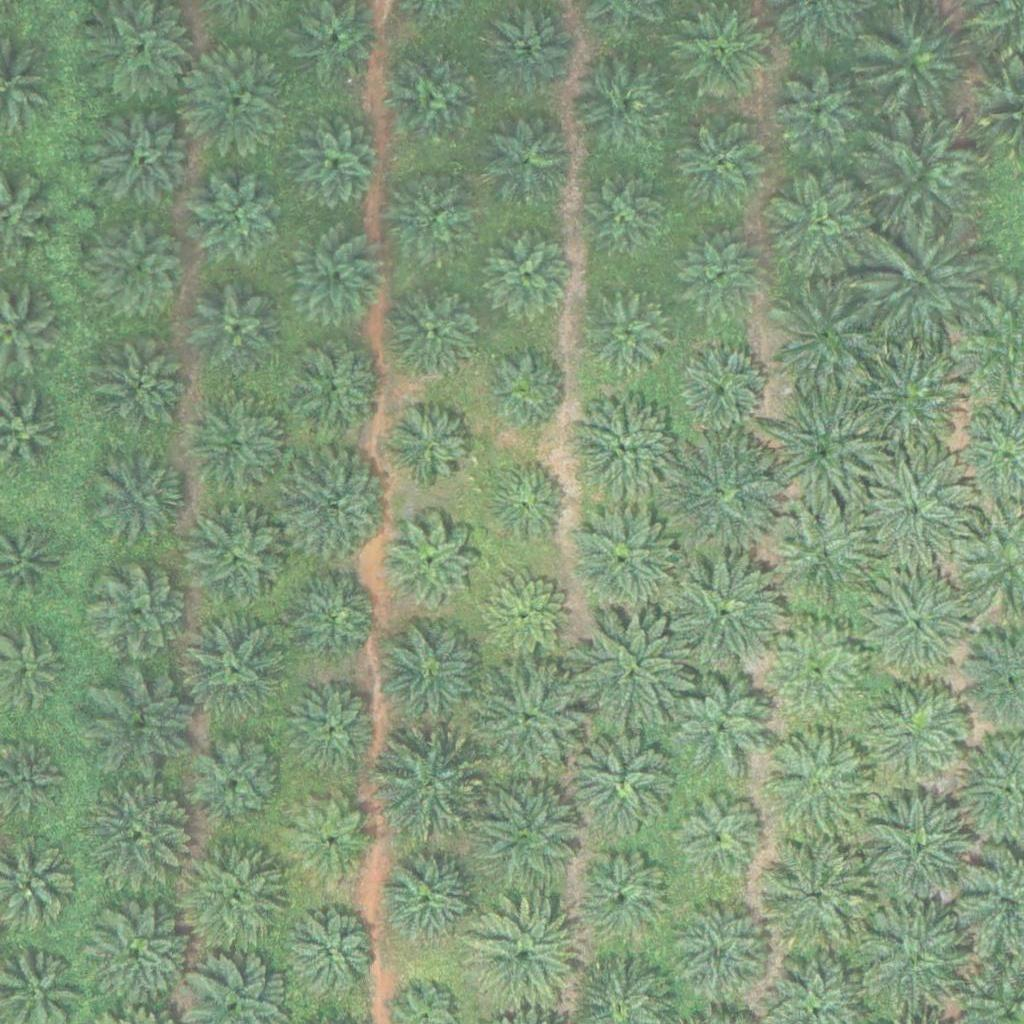Kelapa_Sawit: (869, 118, 982, 232), (869, 225, 982, 339), (180, 502, 293, 616), (280, 448, 393, 562), (377, 618, 490, 732), (369, 731, 482, 845), (183, 43, 296, 156), (88, 101, 201, 214), (86, 783, 199, 896), (81, 902, 194, 1015), (375, 840, 488, 953), (467, 902, 580, 1015), (566, 391, 679, 504), (567, 507, 680, 620), (670, 440, 783, 553), (668, 558, 781, 671), (764, 730, 877, 843), (756, 839, 869, 952), (849, 340, 962, 453), (861, 907, 974, 1020), (854, 2, 966, 116), (475, 663, 587, 777), (472, 775, 584, 889), (569, 843, 681, 957), (765, 169, 877, 282), (772, 283, 884, 396), (282, 218, 394, 331), (86, 662, 198, 775), (179, 609, 291, 722), (176, 840, 288, 953), (576, 613, 688, 726), (570, 726, 682, 839), (767, 398, 879, 511), (769, 500, 881, 613), (858, 459, 970, 572), (859, 570, 971, 683), (864, 794, 976, 907), (673, 110, 773, 211), (574, 55, 674, 156), (478, 110, 578, 211), (383, 167, 483, 268), (384, 280, 484, 381), (284, 117, 384, 218), (187, 168, 287, 269), (88, 558, 188, 659), (185, 729, 285, 830), (669, 675, 769, 776), (765, 621, 865, 722), (865, 681, 965, 782), (670, 2, 770, 102), (91, 215, 191, 315), (91, 337, 191, 437), (96, 445, 196, 545), (188, 393, 288, 493), (282, 567, 382, 667), (282, 681, 382, 781), (379, 513, 479, 613), (672, 904, 772, 1004), (675, 231, 763, 319), (680, 348, 768, 436), (577, 173, 665, 261), (287, 913, 375, 1001), (386, 404, 474, 492), (484, 458, 572, 546), (481, 572, 569, 660), (584, 290, 671, 379), (484, 230, 571, 319), (775, 66, 862, 154), (390, 52, 477, 140), (192, 288, 279, 376), (292, 343, 379, 431), (287, 797, 374, 885), (482, 346, 569, 434), (678, 794, 765, 882)
